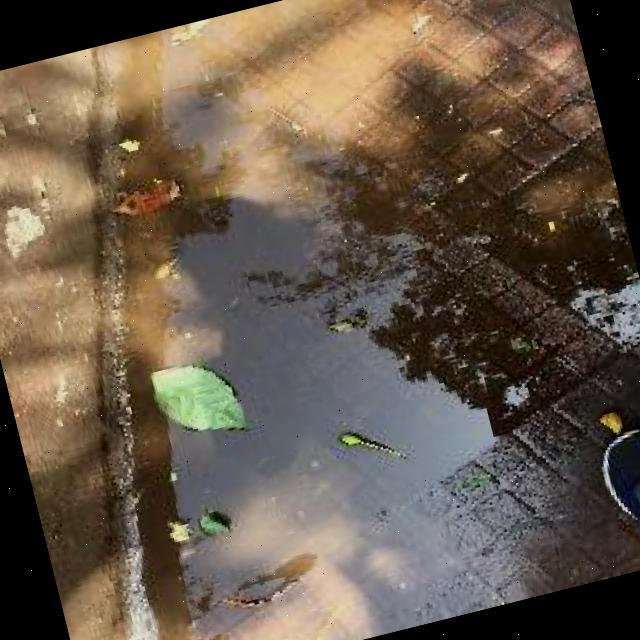waterlogging: (218, 100, 556, 526)
